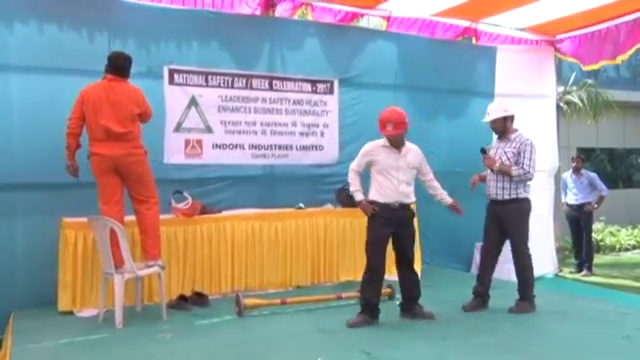helmet: (377, 106, 409, 136), (481, 99, 519, 123)
helmet_off: (105, 49, 133, 81), (568, 153, 585, 173)
helmet_on: (376, 105, 411, 152), (480, 100, 521, 140)
person: (344, 106, 462, 327), (65, 50, 168, 270), (464, 99, 540, 316), (560, 154, 609, 280)
